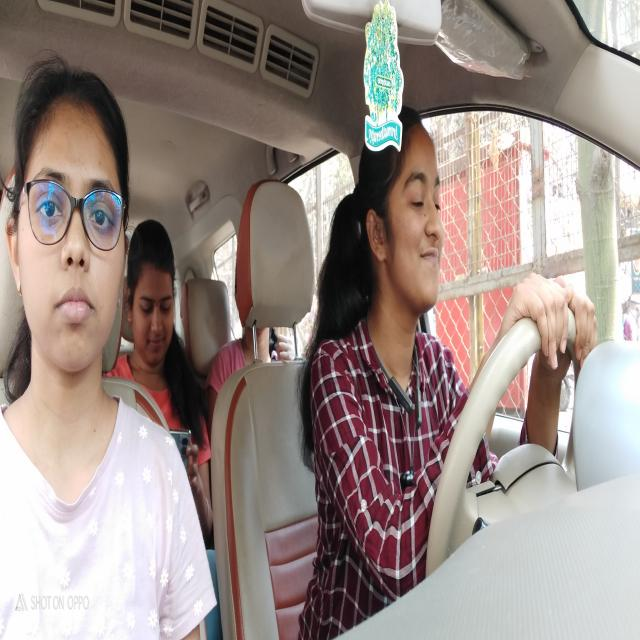drowsy: (362, 100, 454, 343)
person: (13, 25, 135, 402), (124, 193, 186, 418)
